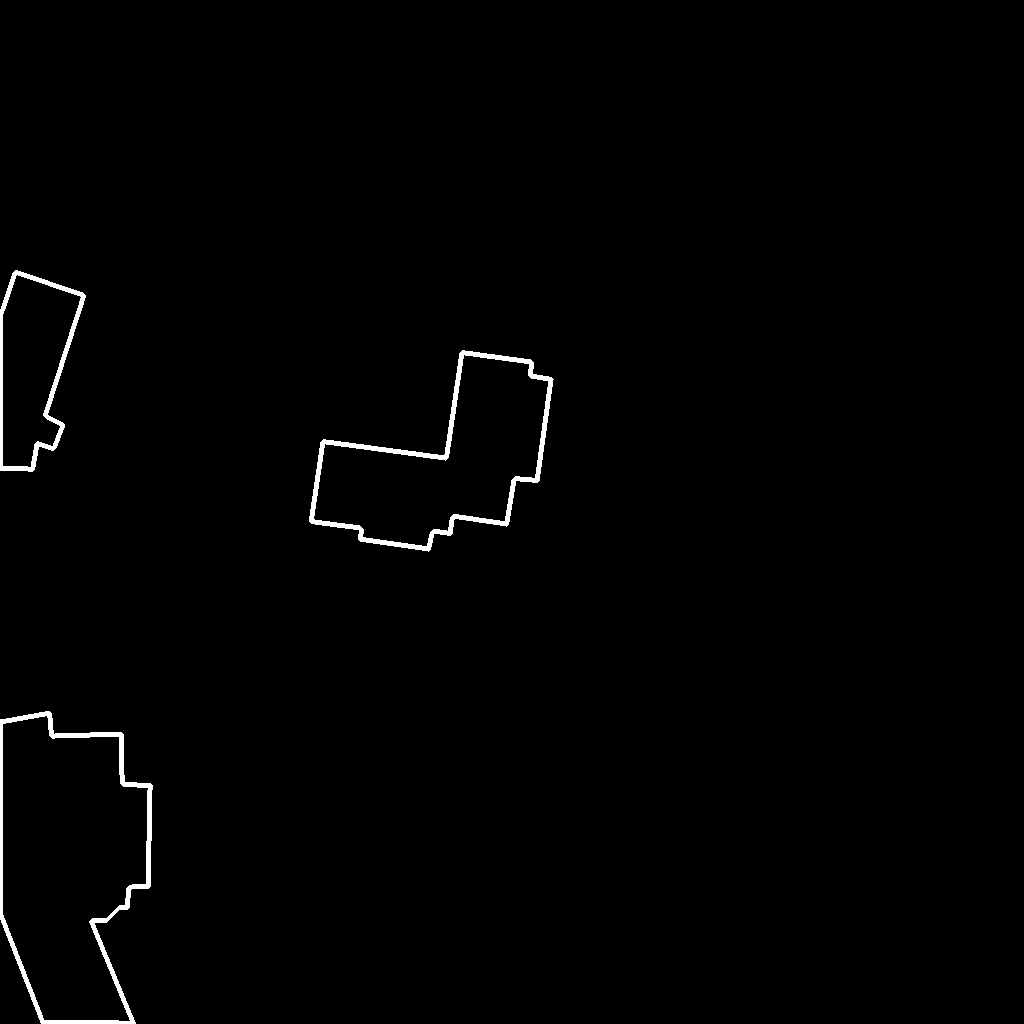building: (311, 352, 552, 550), (0, 713, 151, 1024), (0, 272, 85, 470)
